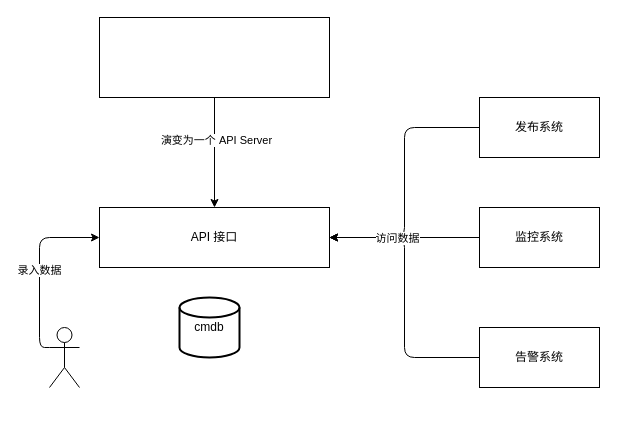
Image size: 617x426. Some labels were removed from this diagram. The box of each missing label's shape, as (x1, y1, x2, y2) in pixels:
Actor: (48, 326, 80, 388)
excel: (98, 16, 330, 98)
